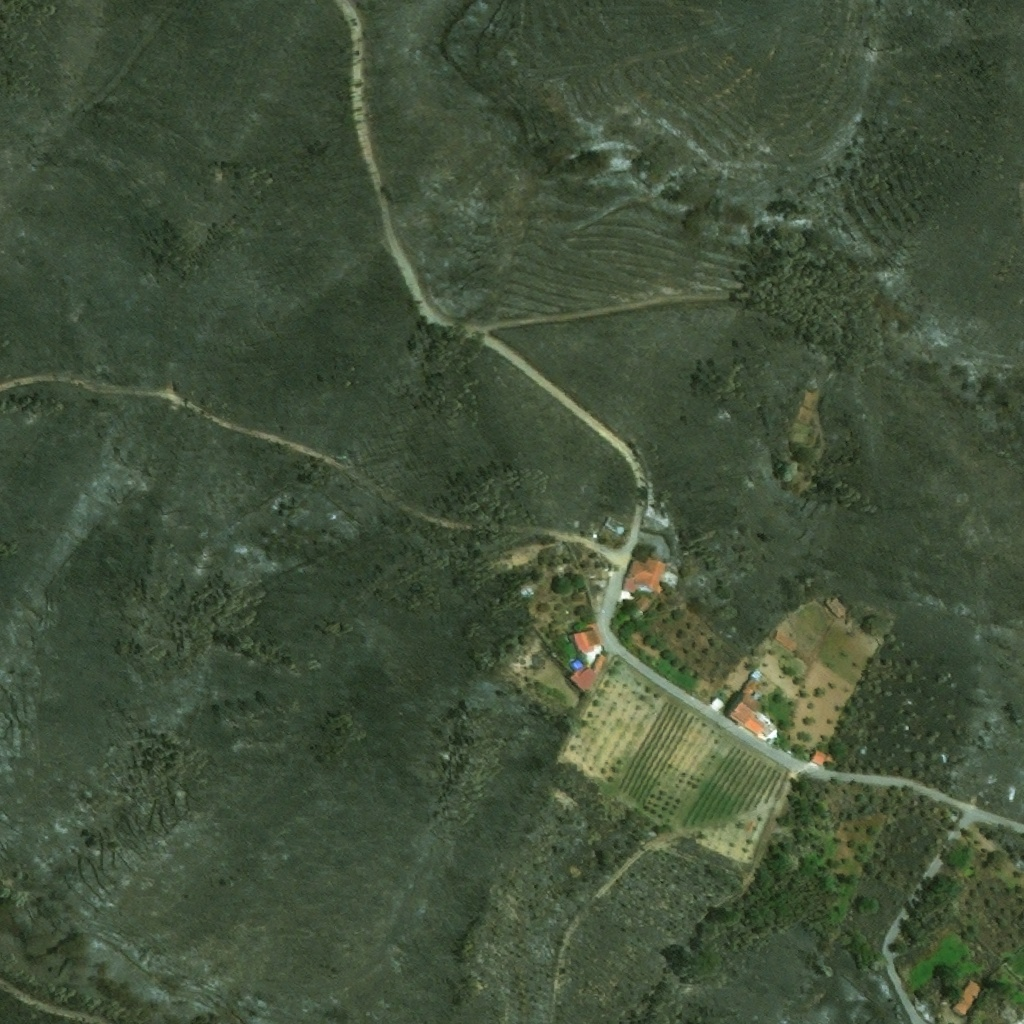0 no-damage: (726, 668, 776, 738), (621, 554, 679, 594), (952, 980, 984, 1016), (567, 663, 600, 693), (573, 627, 602, 658), (772, 630, 798, 653), (823, 599, 846, 619), (633, 593, 654, 614), (607, 513, 632, 529), (592, 653, 608, 672), (810, 749, 828, 765)
